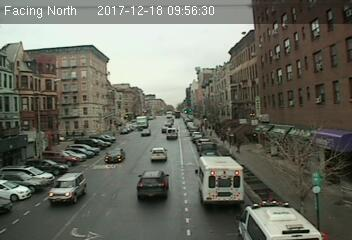car: (49, 171, 89, 205), (135, 168, 171, 200), (103, 148, 126, 166), (149, 147, 169, 162)
police: (234, 197, 324, 240)
truck: (196, 155, 247, 206), (166, 128, 177, 137)
